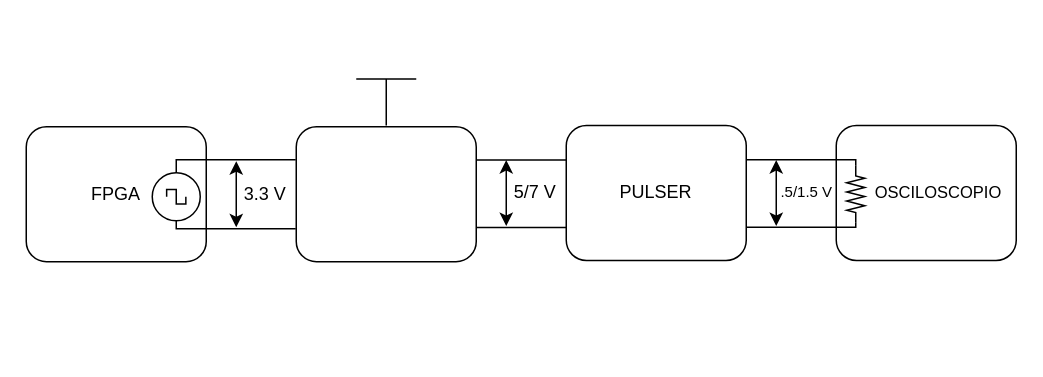
Image size: 1043x377. Some labels were removed from this diagram. Here are the shapes that lost their labels. From the top down, the box of each, then its label:
(355, 78, 416, 126): V dd
(295, 125, 476, 262): DRIVER
